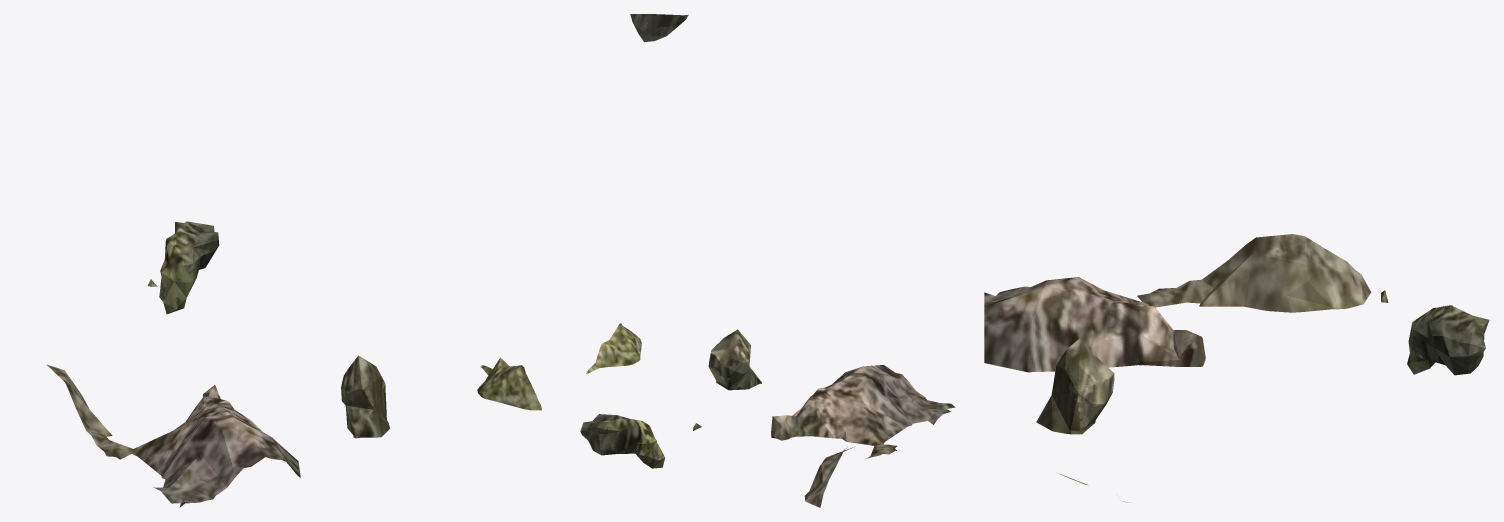
3 renders of one model, left to right at view 1: azimuth 30°, elevation 25°; view 2: azimuth 150°, elevation 25°; view 3: azimuth 270°, elevation 25°, orthographic. The views are drawn at different scales.
Size of the model in its own units: 2.95 by 2.95 by 2.92.
Materials: 1 (1 with a texture image).
